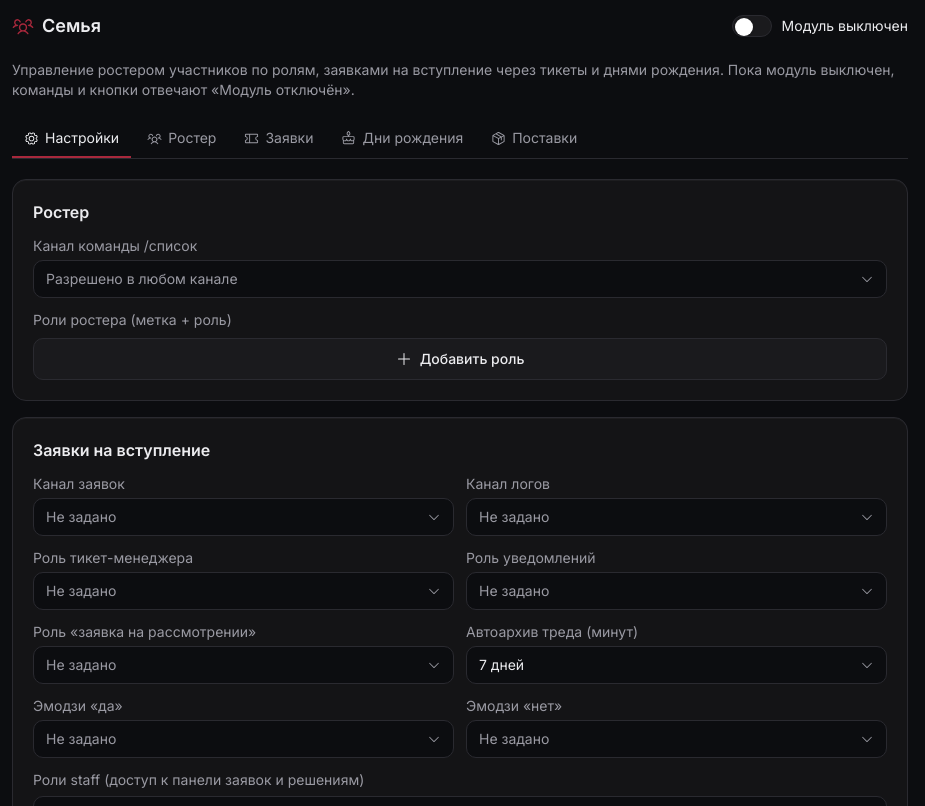
it: FamilyPage › adds a target role row in roster settings
Click the button "Добавить роль" at (460, 359), box [33,338,887,380]
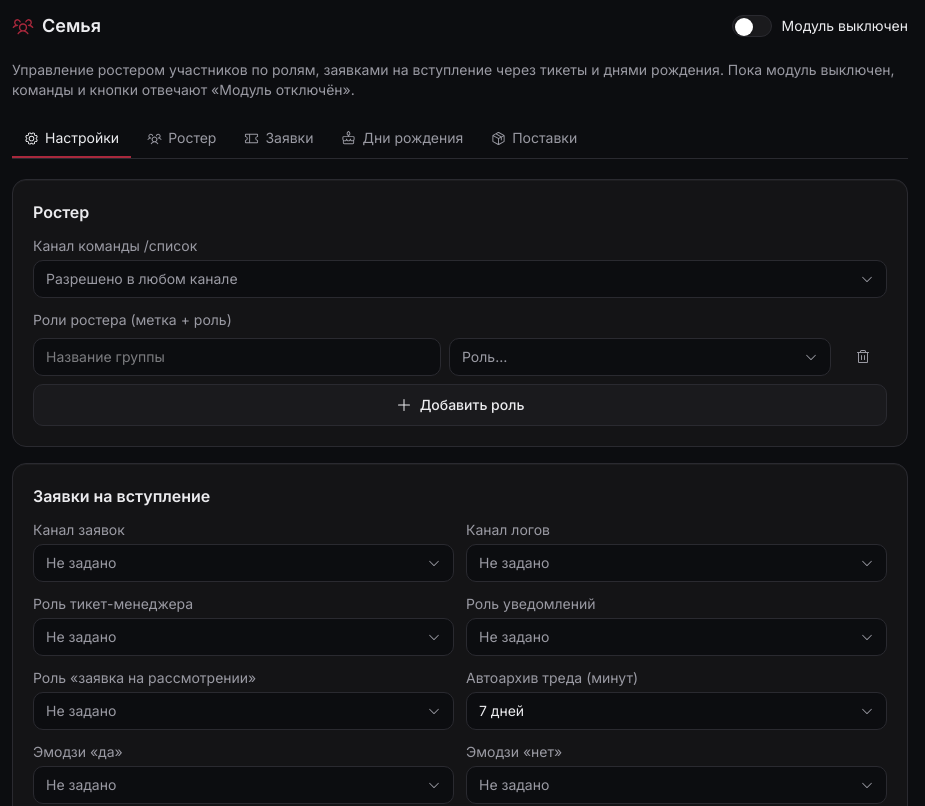
Expected: the field with placeholder "Название группы" is shown, [33,338,441,376]
